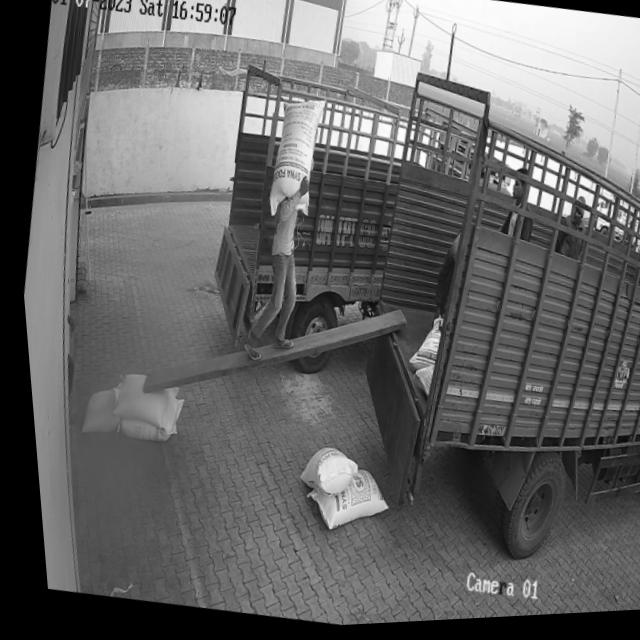sack: (255, 94, 331, 226), (291, 462, 386, 543), (101, 369, 177, 434), (105, 388, 180, 448), (287, 443, 353, 505), (70, 380, 118, 438)
